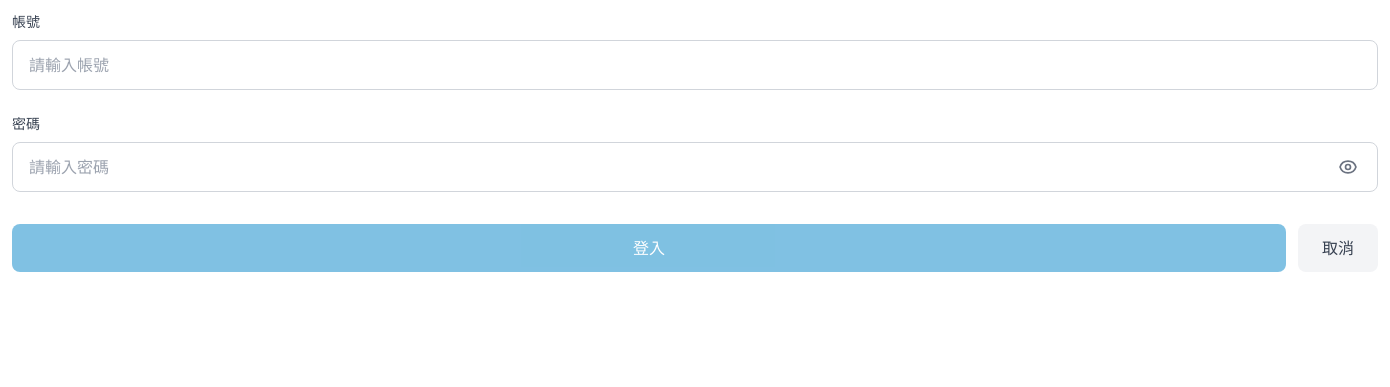
Test: 登入流程整合測試 › 應該顯示登入失敗錯誤訊息
This screenshot has width=1390, height=387.
Type "testuser" into the field labelled "帳號". click: [695, 65]
box: [12,40,1378,90]
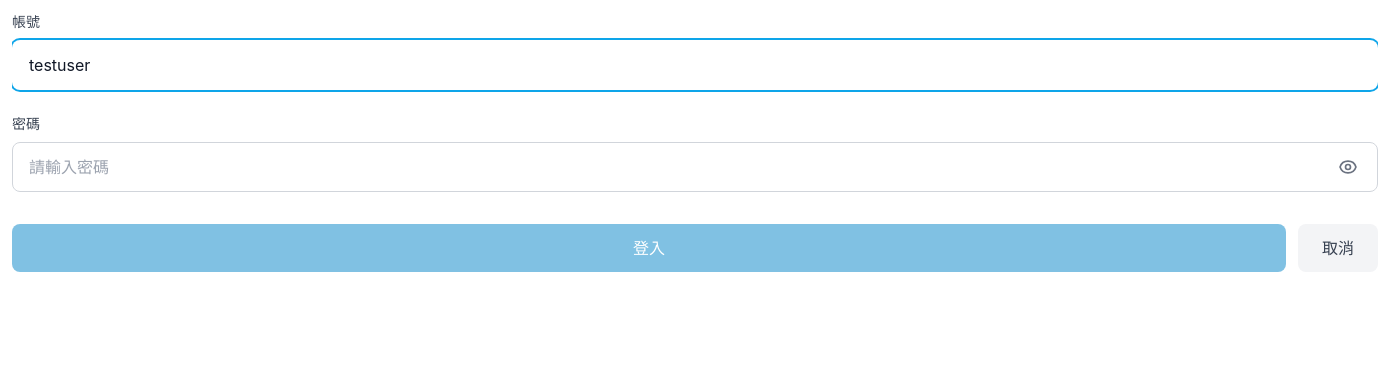
Type "wrongpassword" into the password field labelled "密碼". click: [695, 167]
box: [12,142,1378,192]
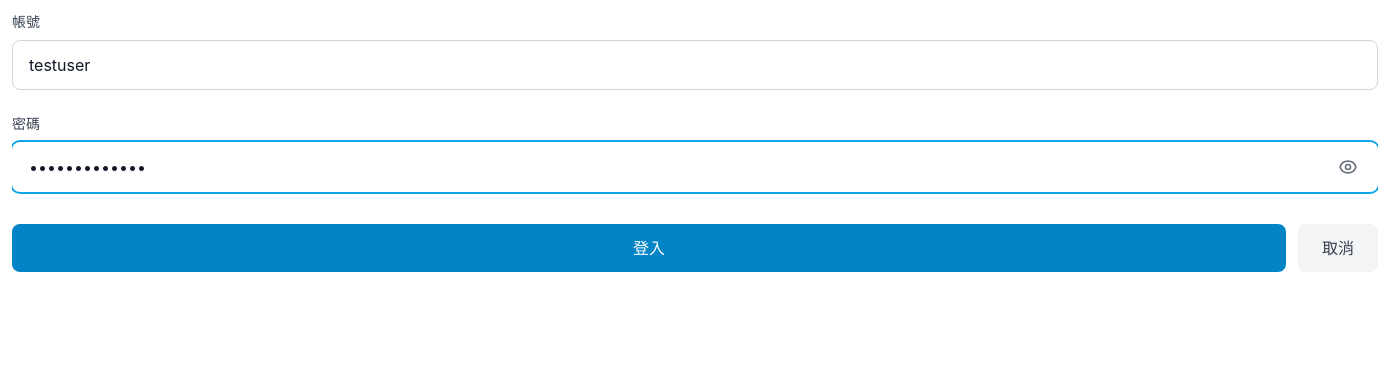
Click the button "登入". click: [649, 248]
box: [12,224,1286,272]
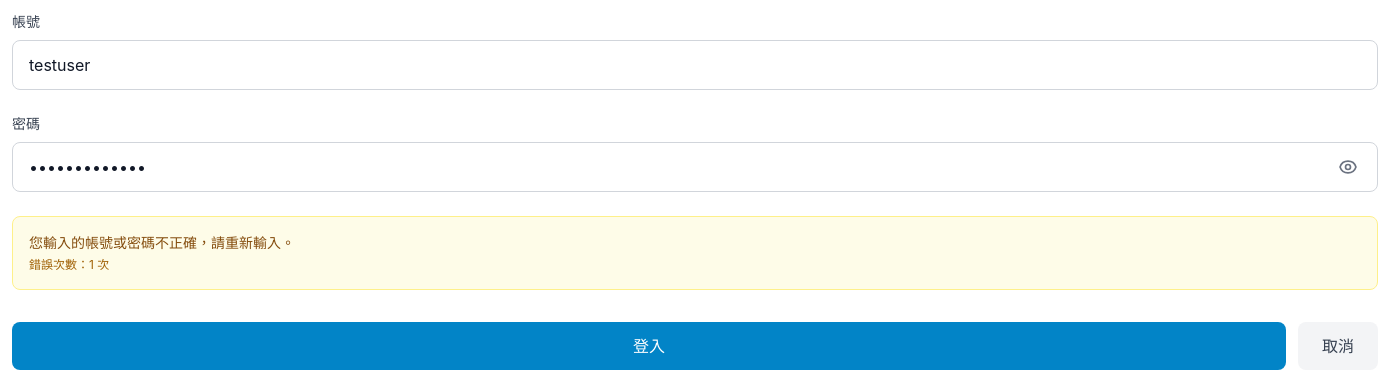
Expected: the text "您輸入的帳號或密碼不正確，請重新輸入。" is shown, [29,234,295,251]
